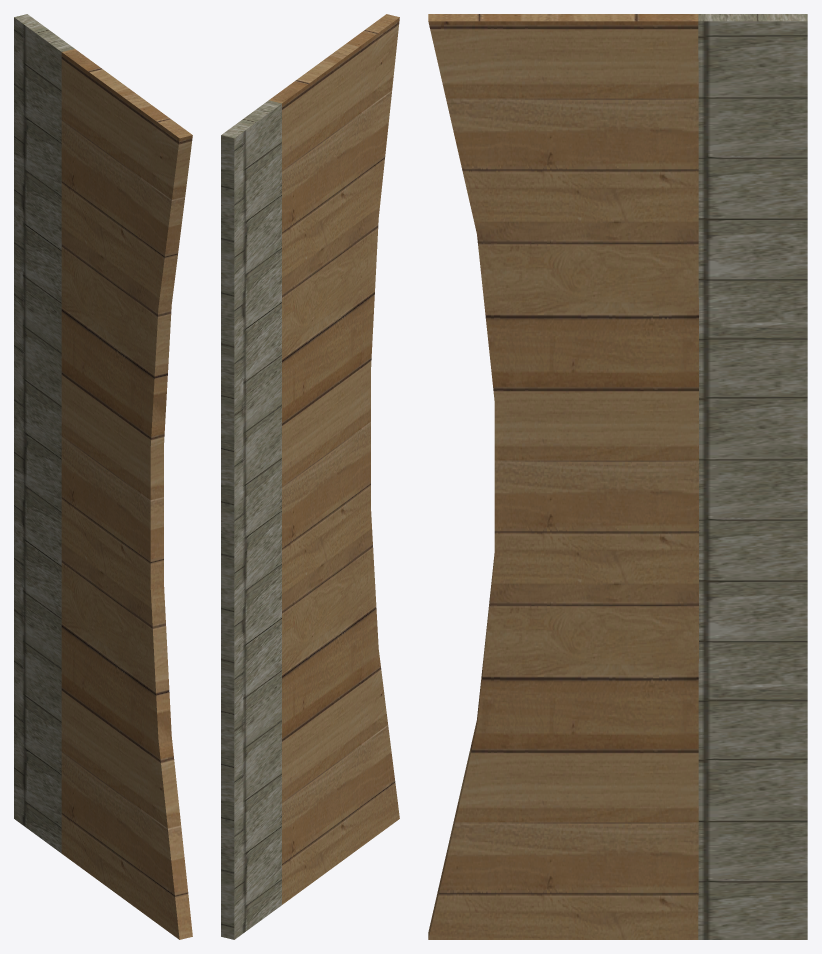
Rendered from nt_concrete_fence_220_tall_LOD1.obj.
The picture shows the model from 3 angles, left to right: view 1: azimuth 30°, elevation 25°; view 2: azimuth 150°, elevation 25°; view 3: azimuth 270°, elevation 25°; orthographic projection. The views are drawn at different scales.
Parts seen in each view (by area): view 1: nt_wood_fence, nt_2020_concrete_pattern_02; view 2: nt_wood_fence, nt_2020_concrete_pattern_02; view 3: nt_wood_fence, nt_2020_concrete_pattern_02.
Part boxes in pixels (x1,y1,x2,y2): nt_wood_fence: (61,49,192,939); nt_2020_concrete_pattern_02: (14,14,74,853); nt_wood_fence: (269,14,399,904); nt_2020_concrete_pattern_02: (221,100,281,939); nt_wood_fence: (428,14,698,939); nt_2020_concrete_pattern_02: (698,14,807,939).
Bounding box in the file's own units: 9.37 × 539 × 202.
2 materials, 2 textured.
